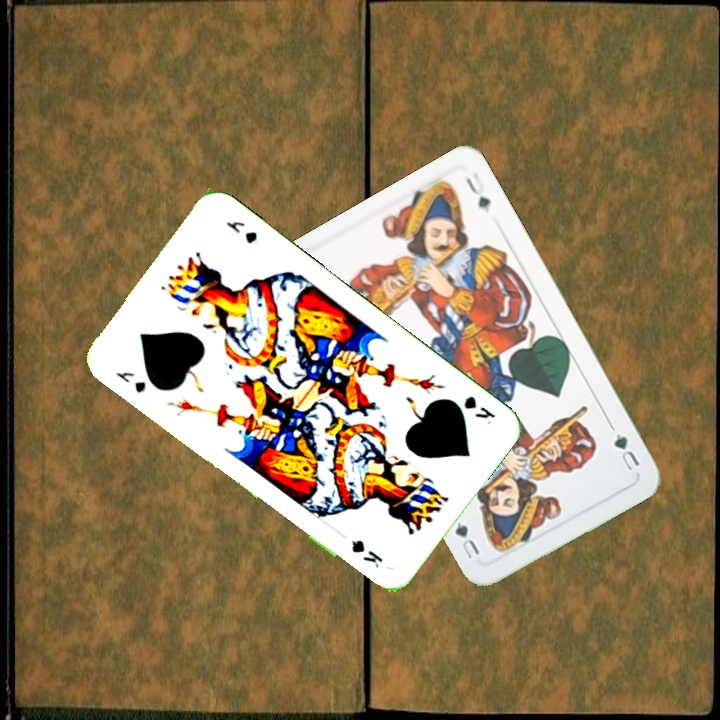GK: (459, 391, 499, 427), (111, 367, 149, 396)
GU: (609, 429, 643, 474)
